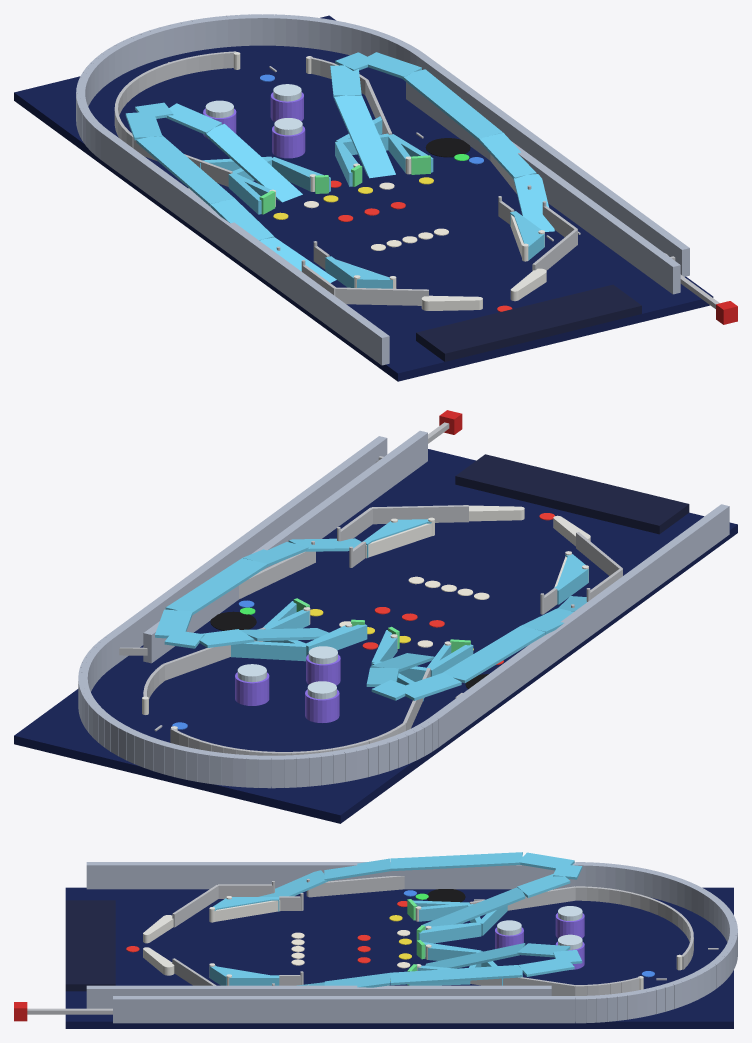
File: space_playfield_blockout.obj
The picture shows the model from 3 angles, top to bottom: view 1: azimuth 30°, elevation 25°; view 2: azimuth 150°, elevation 25°; view 3: azimuth 270°, elevation 25°; orthographic projection. The views are drawn at different scales.
Parts seen in each view (by area): view 1: Playfield_board, Wall01_wood, Ramp_ramp_r, Ramp_ramp_l, Apron, Wall02_wood, Wall16_metal, Wall04_metal, Wall05_metal, Wall10_plastic, Wall06_plastic, Wall17_metal (+7 smaller); view 2: Playfield_board, Wall01_wood, Apron, Wall02_wood, Ramp_ramp_r, Ramp_ramp_l, Wall05_metal, Wall16_metal, Wall17_metal, Wall21_metal, Wall19_plastic, Wall04_metal (+10 smaller); view 3: Playfield_board, Wall01_wood, Ramp_ramp_l, Wall02_wood, Ramp_ramp_r, Apron, Wall16_metal, Wall17_metal, Wall04_metal, Wall20_metal, Wall12_plastic, Slingshot_L_rubber (+15 smaller).
Boxes of the visible parts, <box> form: Playfield_board: <box>14,15,713,381</box>; Wall01_wood: <box>76,14,689,365</box>; Ramp_ramp_r: <box>330,52,554,231</box>; Ramp_ramp_l: <box>125,102,336,282</box>; Apron: <box>416,284,641,361</box>; Wall02_wood: <box>406,82,680,294</box>; Wall16_metal: <box>114,51,236,186</box>; Wall04_metal: <box>302,265,428,305</box>; Wall05_metal: <box>532,206,577,270</box>; Wall10_plastic: <box>232,157,310,195</box>; Wall06_plastic: <box>325,256,392,288</box>; Wall17_metal: <box>309,57,392,134</box>; Playfield_board: <box>14,449,737,823</box>; Wall01_wood: <box>78,436,729,788</box>; Apron: <box>455,454,689,534</box>; Wall02_wood: <box>143,430,427,663</box>; Ramp_ramp_r: <box>155,538,361,648</box>; Ramp_ramp_l: <box>366,596,586,700</box>; Wall05_metal: <box>340,505,468,540</box>; Wall16_metal: <box>170,668,430,755</box>; Wall17_metal: <box>143,627,265,698</box>; Wall21_metal: <box>239,551,315,599</box>; Wall19_plastic: <box>231,641,306,661</box>; Wall04_metal: <box>576,532,622,599</box>; Playfield_board: <box>65,887,733,1028</box>; Wall01_wood: <box>86,862,737,1023</box>; Ramp_ramp_l: <box>259,852,582,929</box>; Wall02_wood: <box>86,985,551,1008</box>; Ramp_ramp_r: <box>297,943,582,987</box>; Apron: <box>65,900,115,991</box>; Wall16_metal: <box>469,886,693,969</box>; Wall17_metal: <box>470,977,640,995</box>; Wall04_metal: <box>172,884,272,927</box>; Wall20_metal: <box>308,876,404,897</box>; Wall12_plastic: <box>418,922,481,943</box>; Slingshot_L_rubber: <box>214,900,280,921</box>.
Bounding box in the file's own units: 0.6888 × 0.1008 × 1.53.
